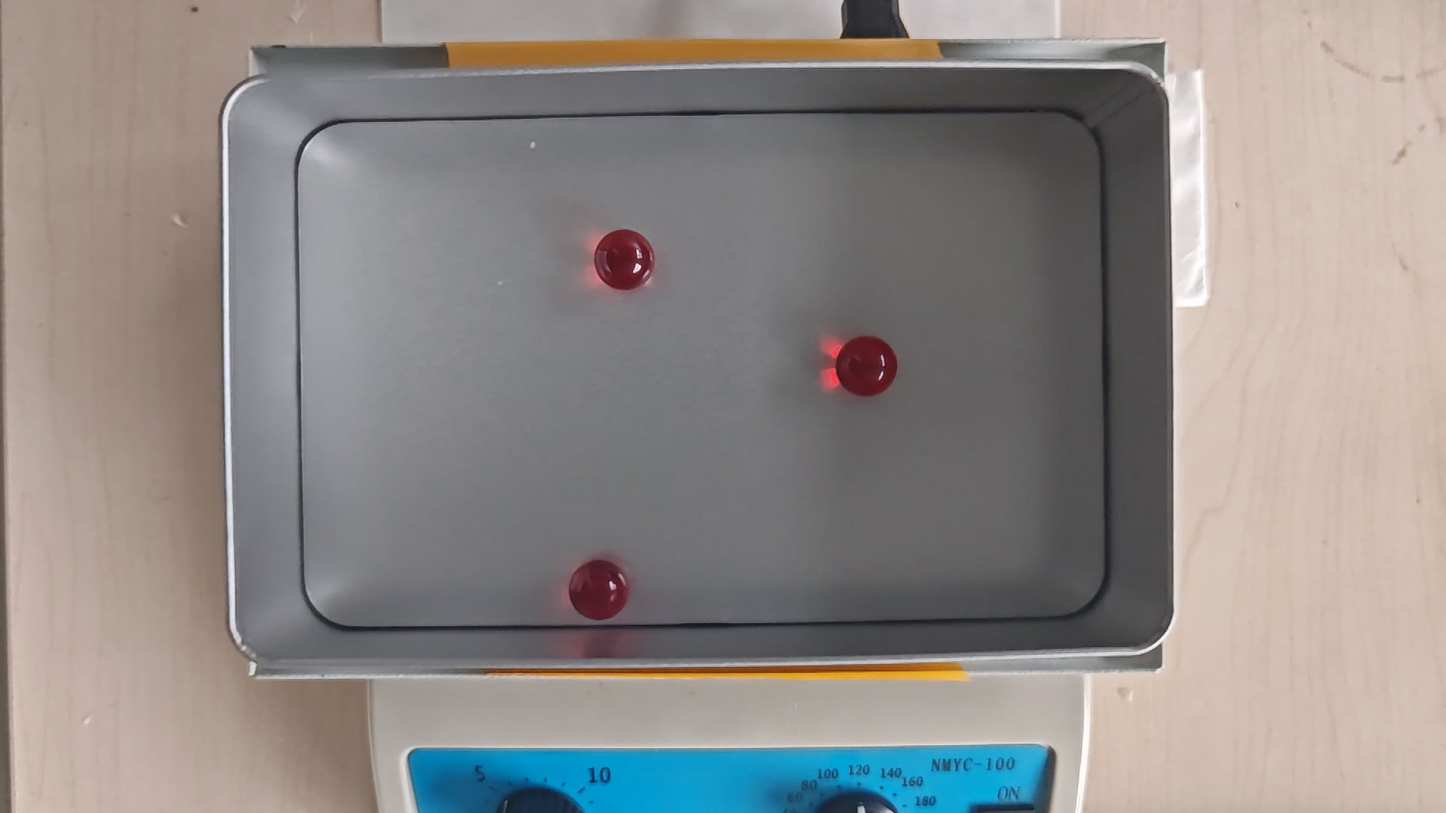ball: (595, 227, 655, 291), (840, 336, 898, 399), (570, 562, 628, 620)
container: (294, 112, 1112, 625)
